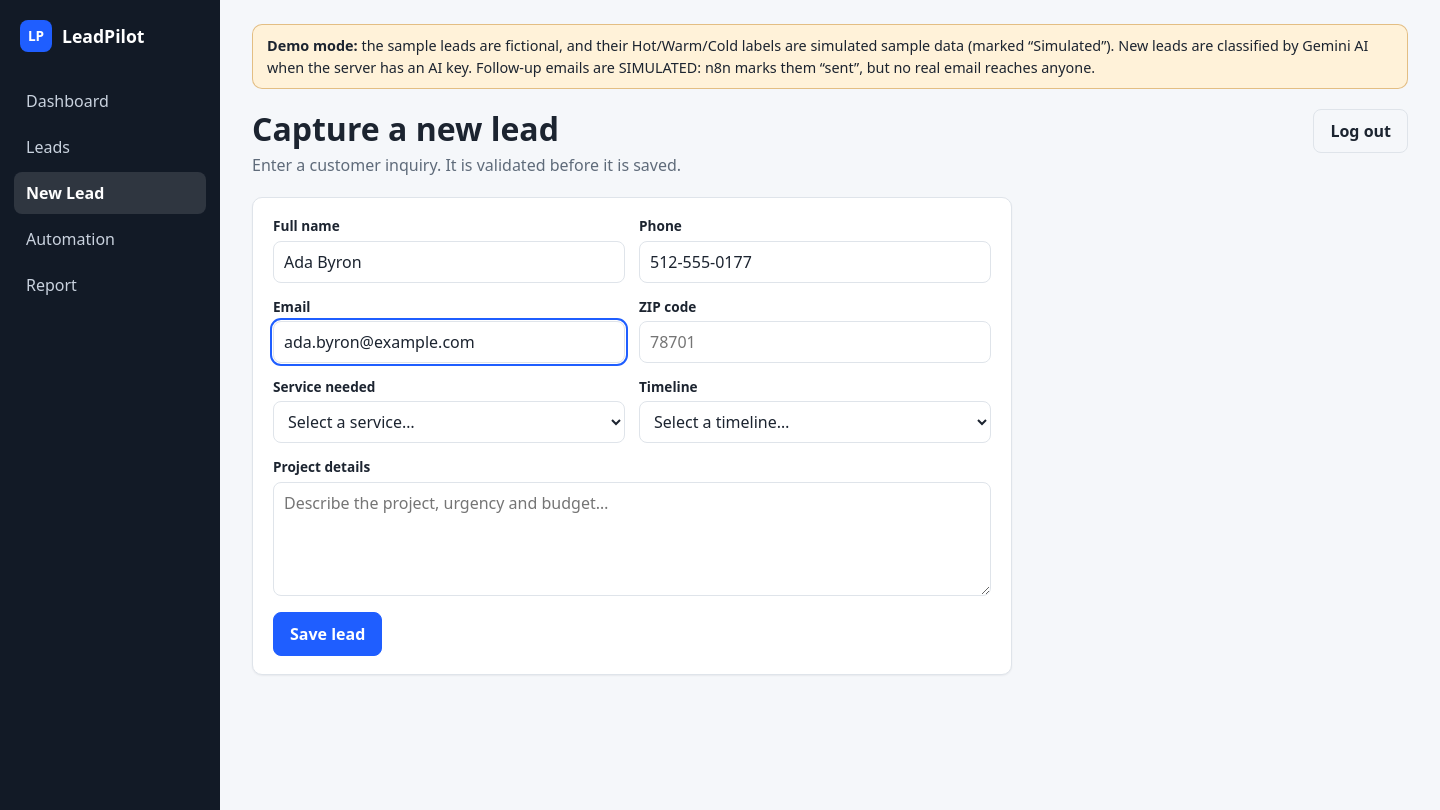
Test case: App › Stage 7: a retry after a LOST answer re-sends the same Idempotency-Key and shows the saved lead (no duplicate)
Earlier steps of the test are not shown.
In the field labelled "ZIP code": (815, 342) [639,321,991,363], type "78702"
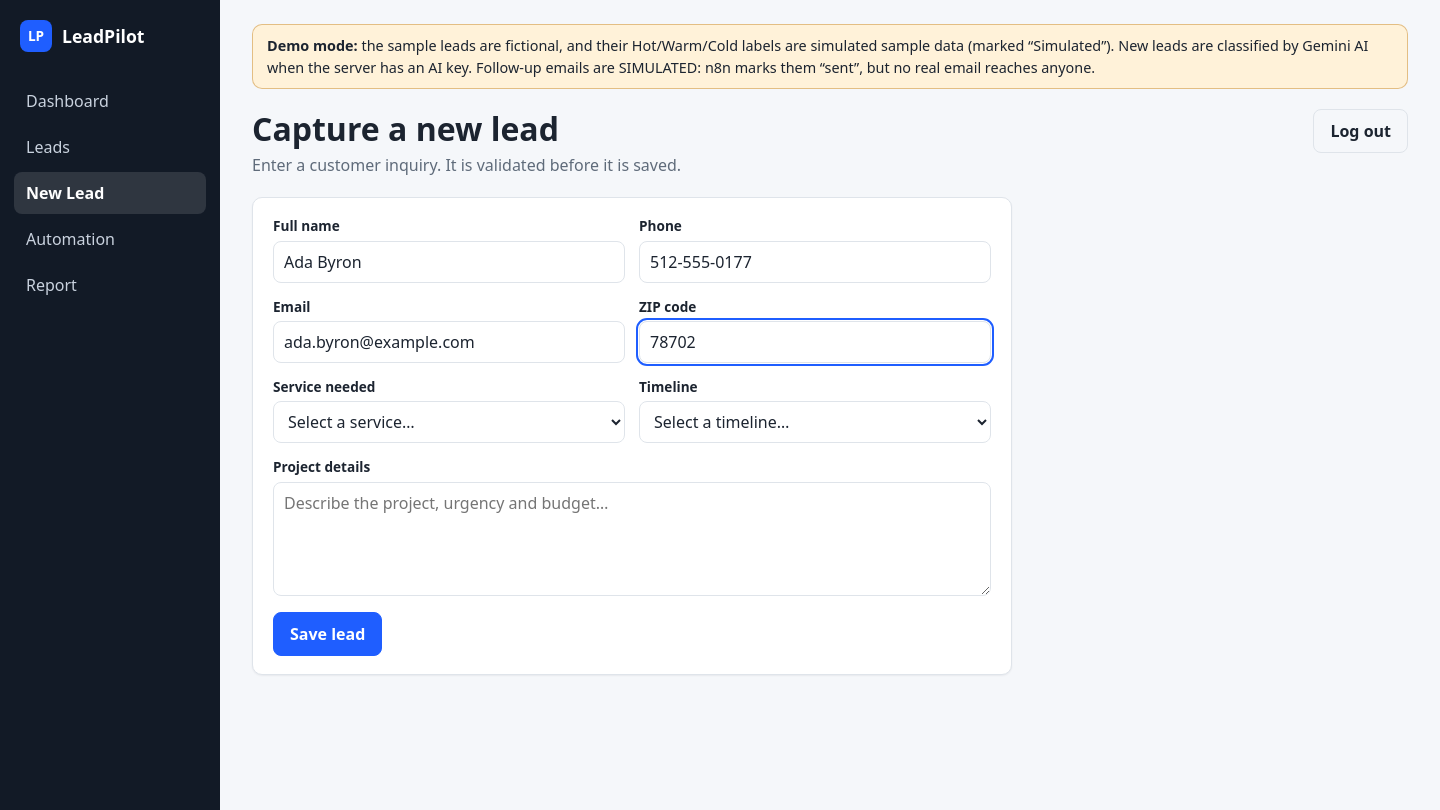
Select "Roofing" in the dropdown labelled "Service needed": (449, 422) [273,401,625,443]
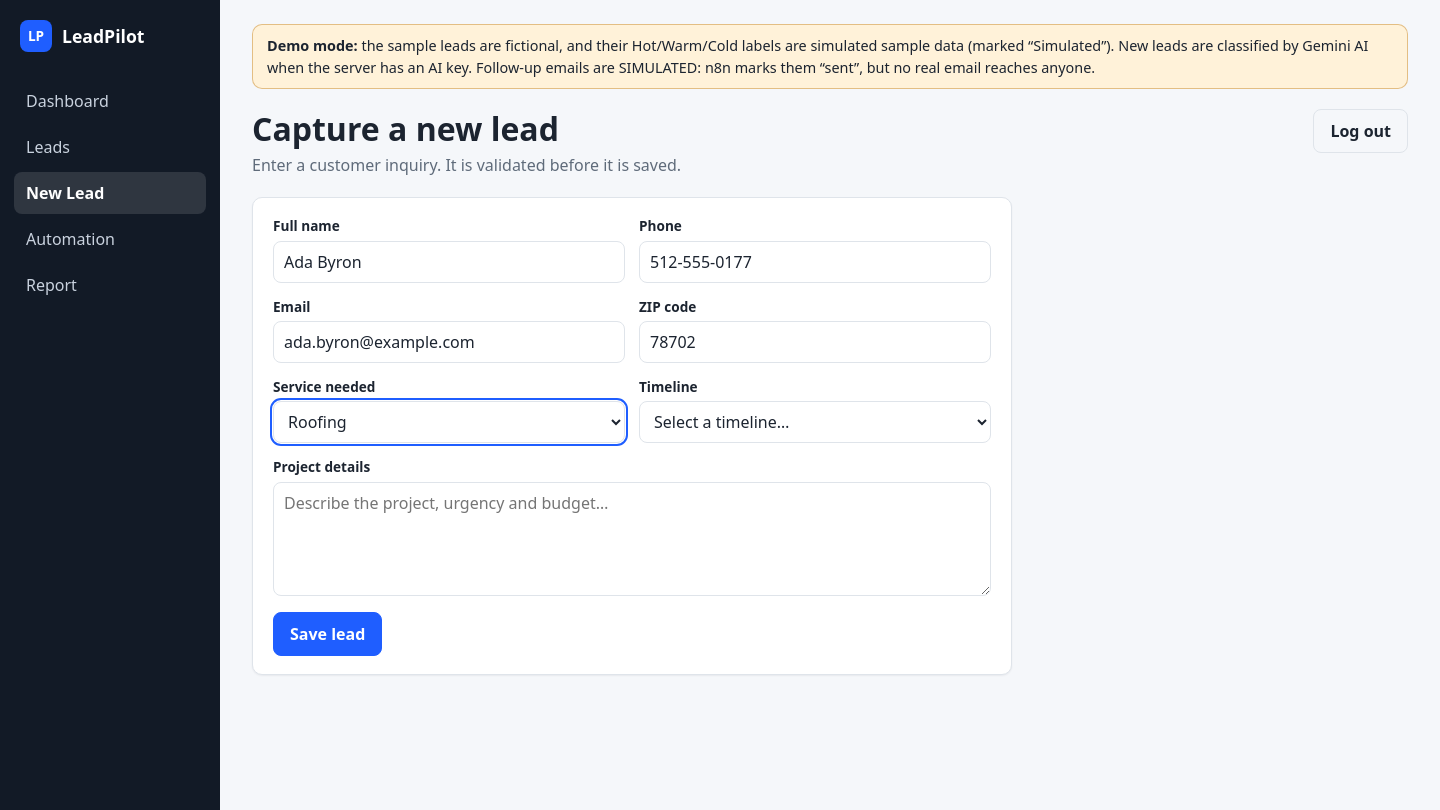
Select "ASAP" in the dropdown labelled "Timeline": (815, 422) [639,401,991,443]
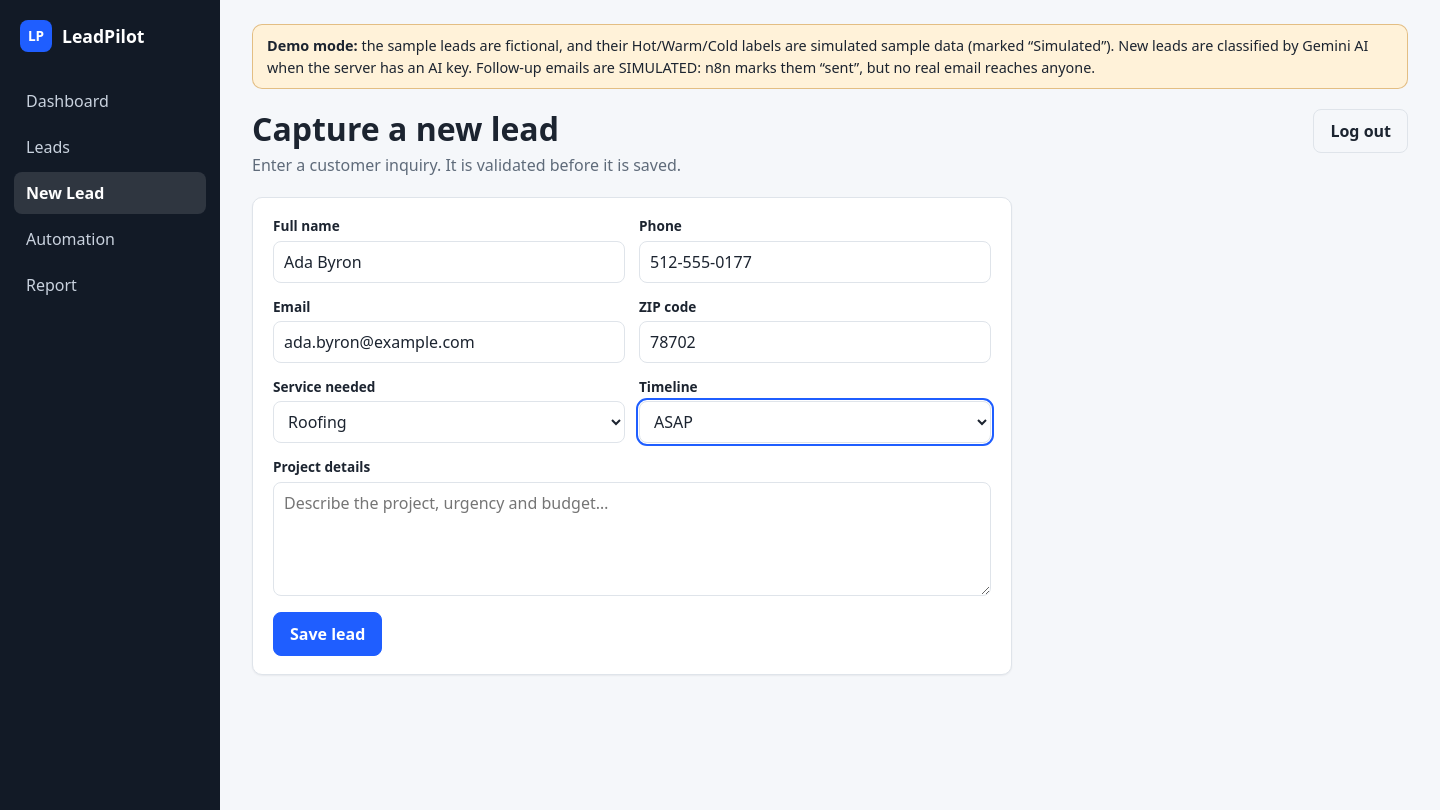
In the text box labelled "Project details": (632, 539) [273,482,991,596], type "Roof leaking after the storm last night."
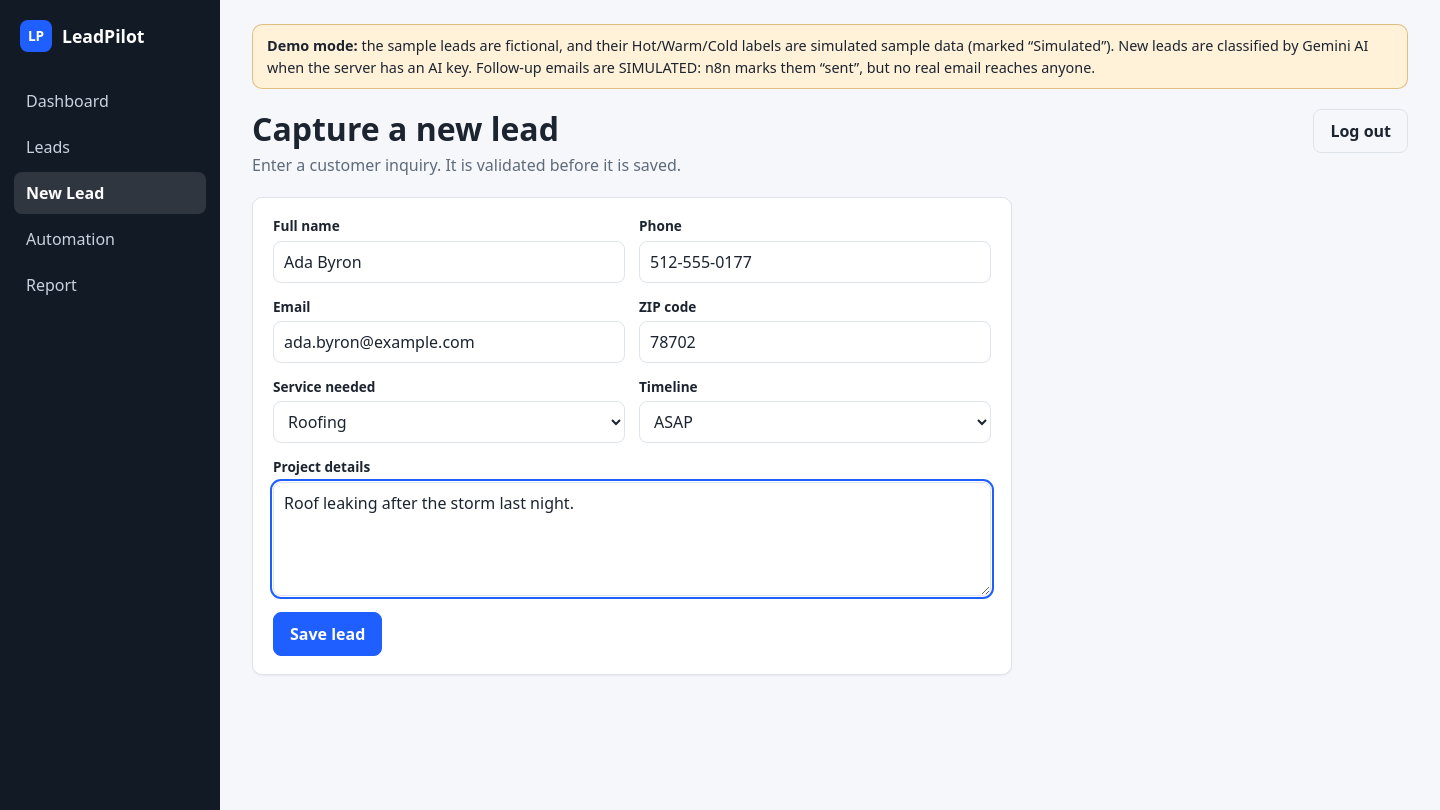
Click the button "Save lead": (328, 634) [273,612,382,656]
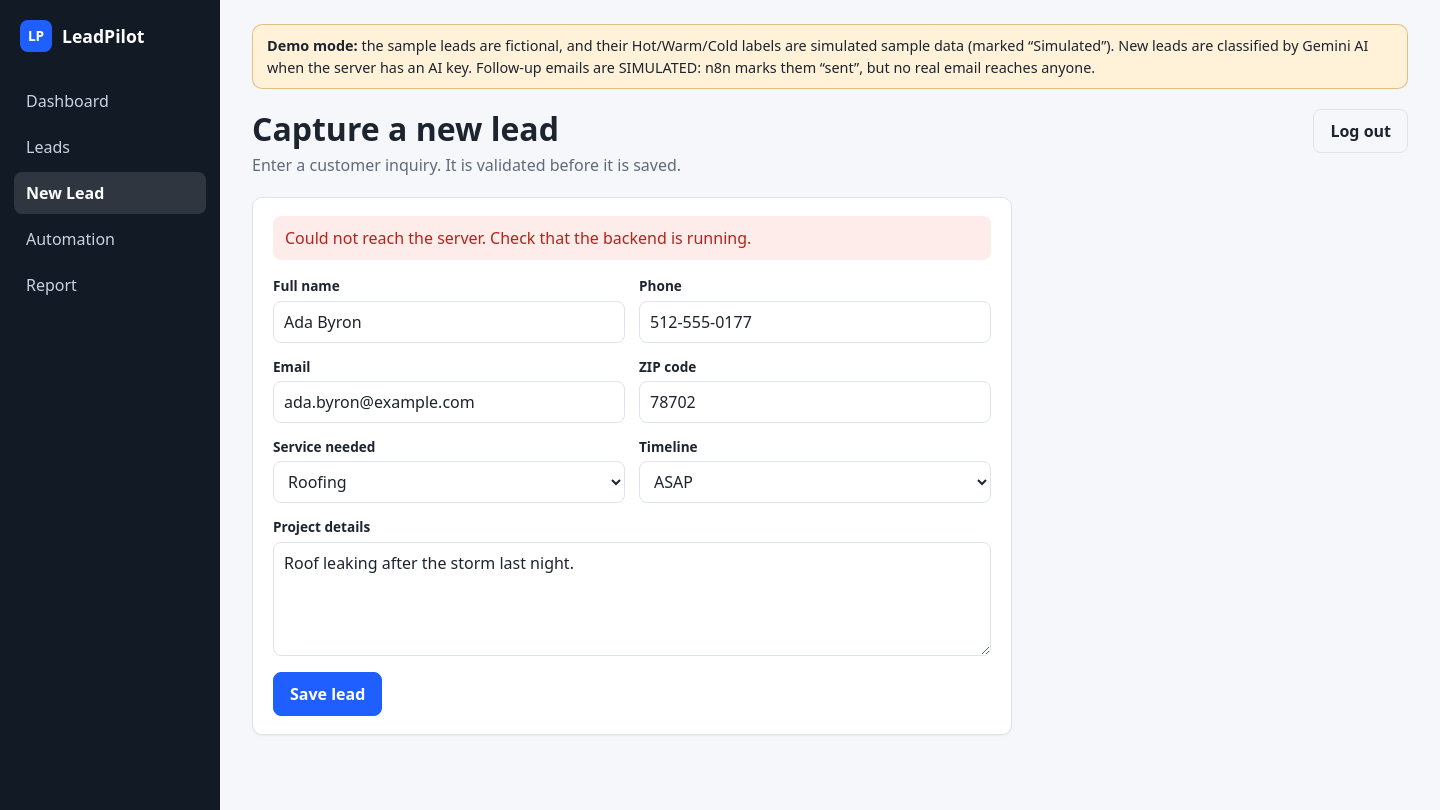
Expected: the message shows "Could not reach the server", [285,227,751,249]
Click the button "Save lead": (328, 694) [273,672,382,716]
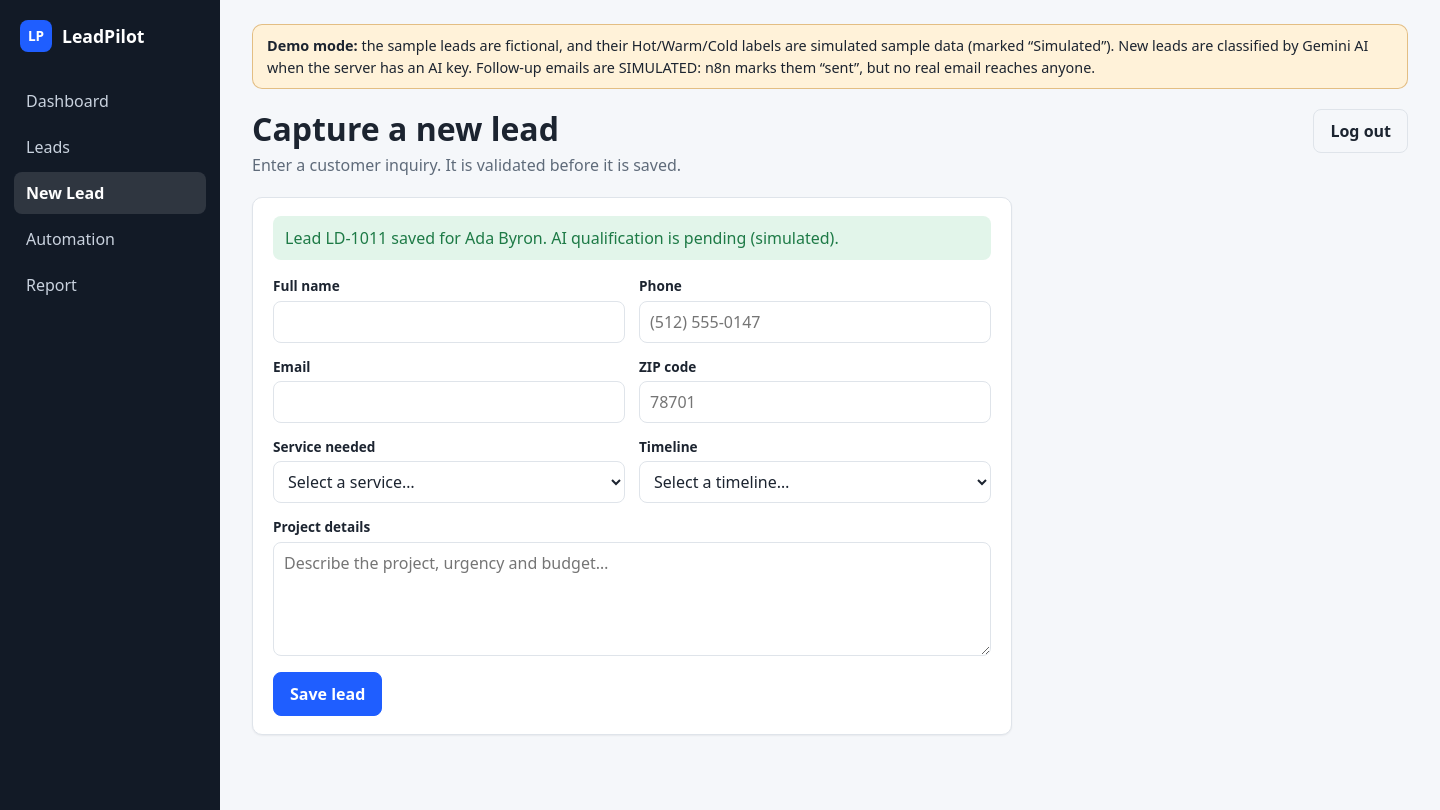
Expected: the message reads "Lead LD-1011 saved for Ada Byron. AI qualification is pending (simulated).", [285,227,839,249]
